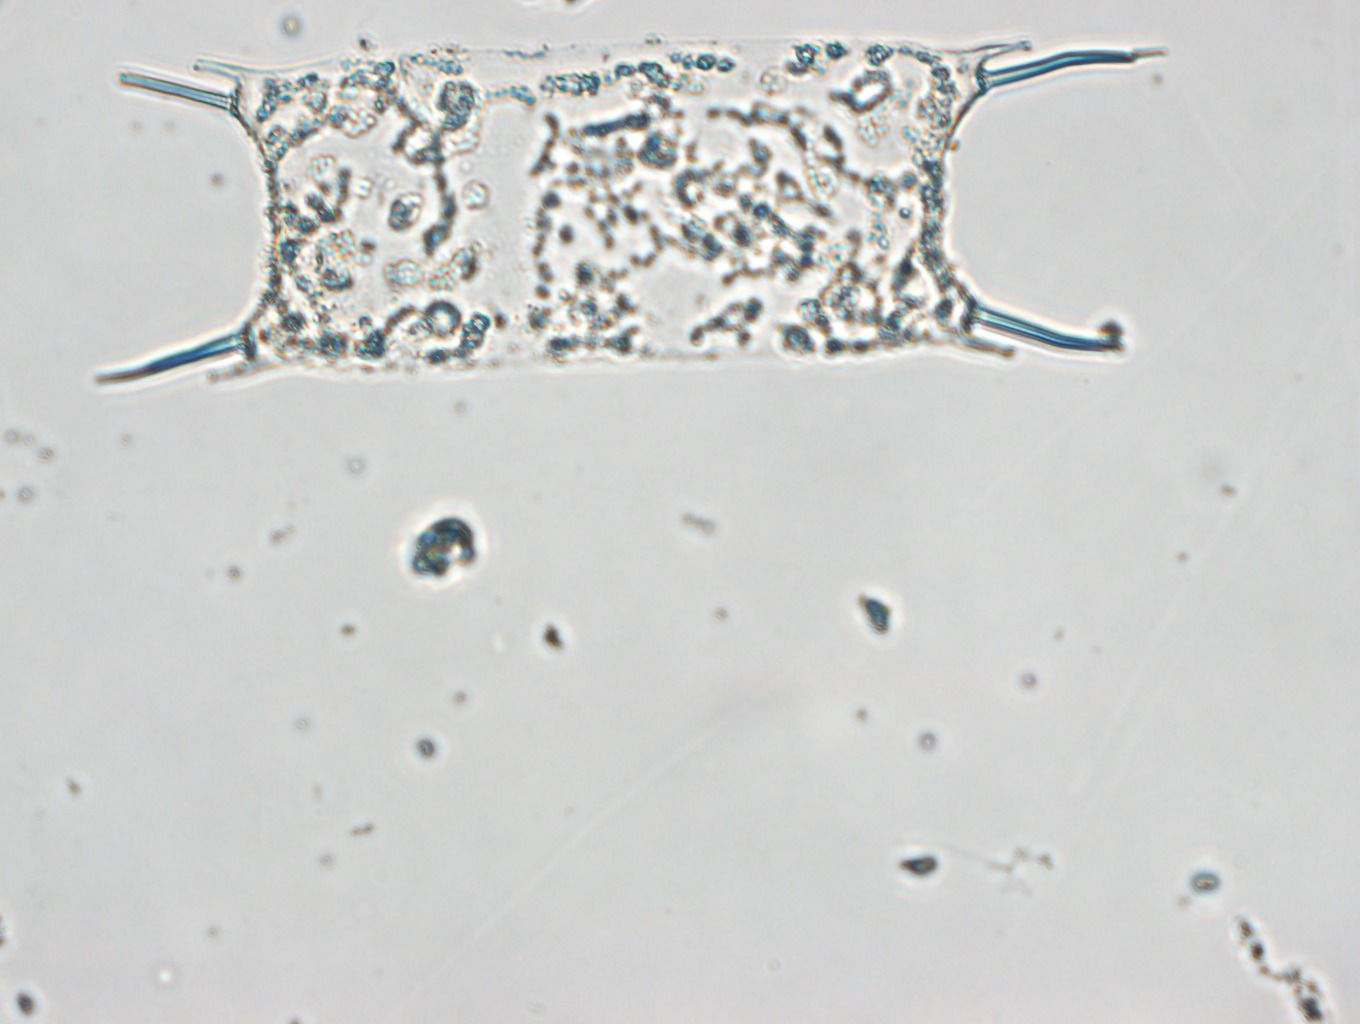biddulphia: (87, 40, 1162, 387)
